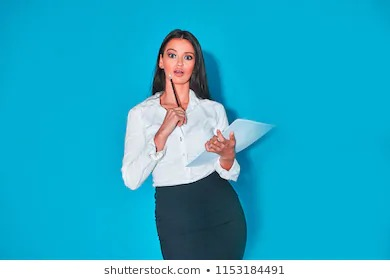S_blouse: (102, 81, 255, 194)
